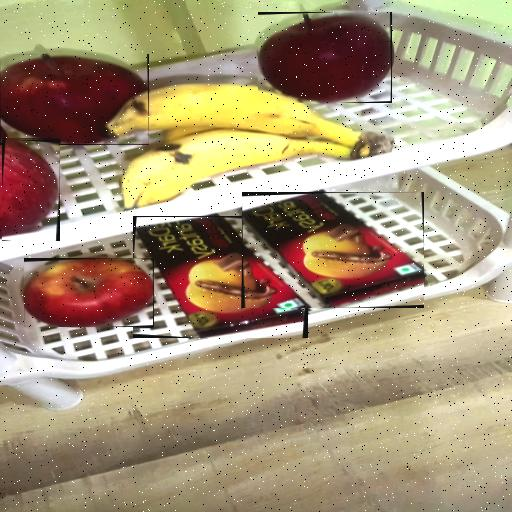Apple: (0, 54, 149, 145), (258, 12, 392, 103), (24, 258, 154, 327), (2, 140, 60, 241)
Choco Fills: (133, 216, 308, 338), (242, 192, 424, 308)
